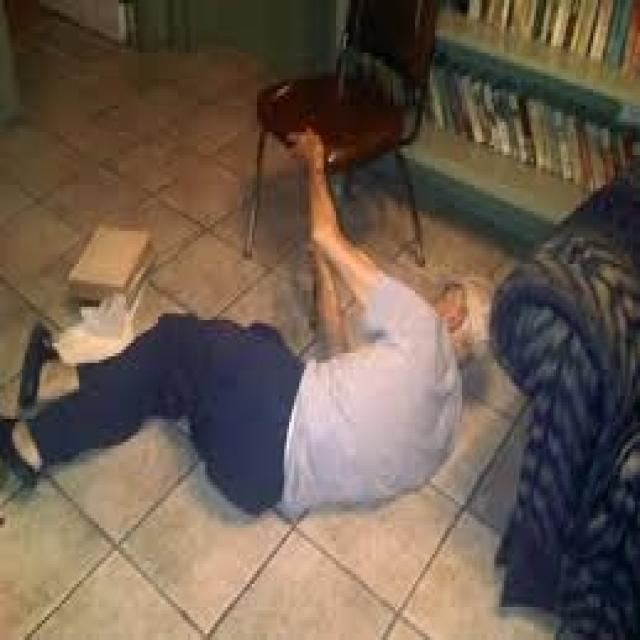lie: (64, 254, 479, 538)
